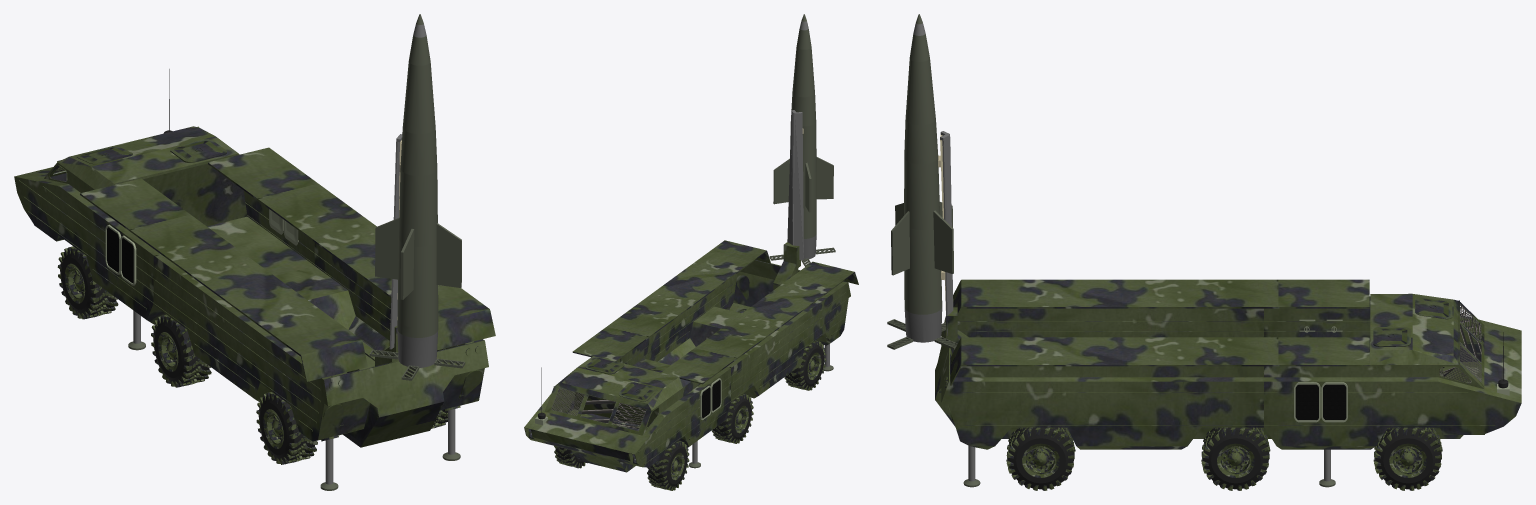
The model's file is l_tochka.glb.
The picture shows the model from 3 angles, left to right: view 1: azimuth 30°, elevation 25°; view 2: azimuth 150°, elevation 25°; view 3: azimuth 270°, elevation 25°; orthographic projection. The views are drawn at different scales.
Visible parts, largest first — view 1: body|Color_F19, body|Color_F19_0, tbm|Color_E13, body|Color_008, body|Color_E13, tbm|Color_006, body|Color_F23, body|Color_002, body|Blinds_Vertical_Stripe_Gray, body|Color_E19; view 2: body|Color_F19, tbm|Color_E13, body|Color_F19_0, body|Color_008, body|Color_E19, body|Color_E13, body|Fencing_Diamond_Mesh, body|Blinds_Vertical_Stripe_Gray; view 3: body|Color_F19, tbm|Color_E13, body|Color_F19_0, body|Color_008, body|Color_E13, body|Blinds_Vertical_Stripe_Gray, body|Fencing_Diamond_Mesh, body|Color_E19, tbm|Color_006, body|Color_F23.
Part boxes in pixels (bbox=[...]): body|Color_F19: bbox=[14, 126, 495, 447]; body|Color_F19_0: bbox=[57, 163, 482, 464]; tbm|Color_E13: bbox=[369, 14, 465, 380]; body|Color_008: bbox=[60, 69, 447, 461]; body|Color_E13: bbox=[128, 218, 461, 490]; tbm|Color_006: bbox=[397, 329, 438, 367]; body|Color_F23: bbox=[105, 209, 298, 285]; body|Color_002: bbox=[133, 310, 455, 484]; body|Blinds_Vertical_Stripe_Gray: bbox=[107, 227, 133, 283]; body|Color_E19: bbox=[389, 134, 402, 349]; body|Color_F19: bbox=[524, 240, 858, 472]; tbm|Color_E13: bbox=[769, 14, 835, 266]; body|Color_F19_0: bbox=[554, 260, 826, 490]; body|Color_008: bbox=[538, 342, 824, 489]; body|Color_E19: bbox=[787, 110, 803, 260]; body|Color_E13: bbox=[689, 157, 833, 468]; body|Fencing_Diamond_Mesh: bbox=[551, 388, 645, 430]; body|Blinds_Vertical_Stripe_Gray: bbox=[702, 380, 720, 418]; body|Color_F19: bbox=[935, 279, 1521, 449]; tbm|Color_E13: bbox=[887, 14, 960, 349]; body|Color_F19_0: bbox=[944, 316, 1442, 490]; body|Color_008: bbox=[1008, 332, 1508, 489]; body|Color_E13: bbox=[891, 202, 1335, 487]; body|Blinds_Vertical_Stripe_Gray: bbox=[1295, 384, 1346, 420]; body|Fencing_Diamond_Mesh: bbox=[1439, 305, 1481, 383]; body|Color_E19: bbox=[940, 131, 953, 335]; tbm|Color_006: bbox=[904, 307, 942, 342]; body|Color_F23: bbox=[1294, 319, 1509, 422].
Size of the model in its own units: 3.74 by 9.05 by 11.76.
Materials: 17 (6 with a texture image).
